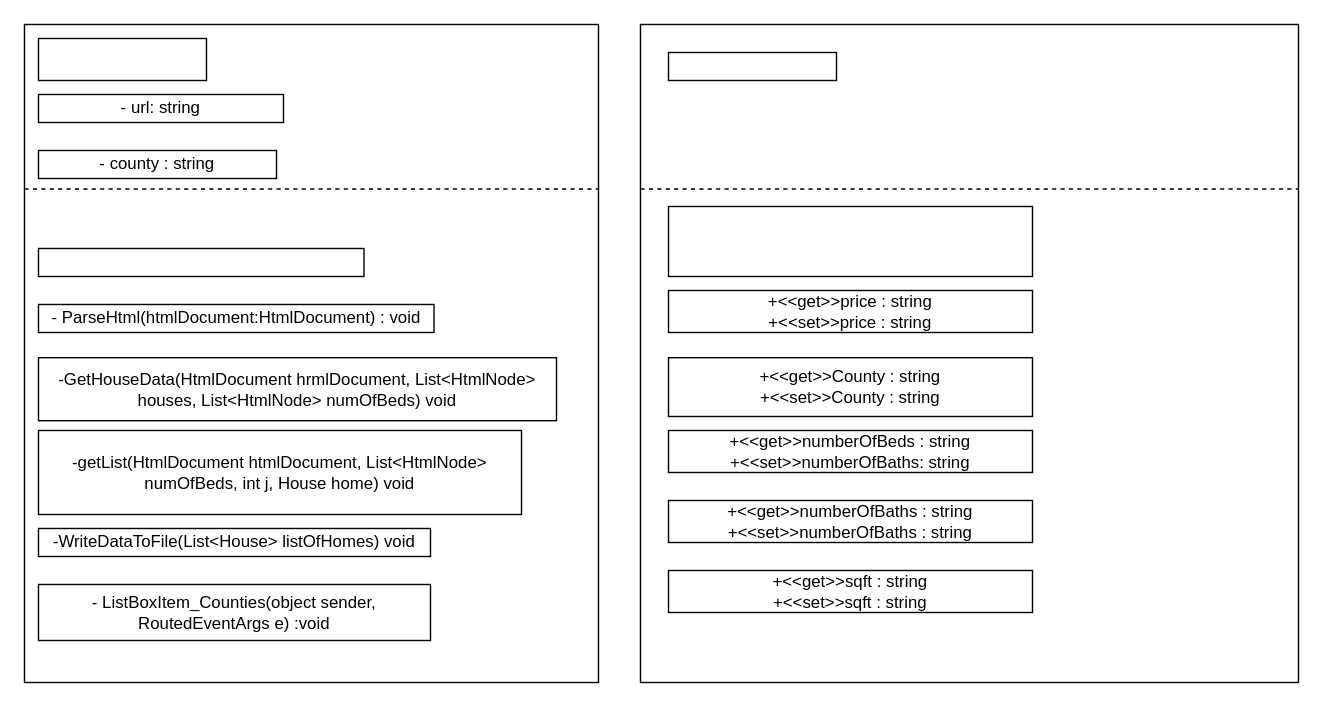
Some shapes in this 1324 by 707 pixel diagram are drawn without their labels. Each missing label, with the centre of its shape:
"+<<get>> address : string +<<set>> address : string" belongs at (x=849, y=240).
"- GetHtml() async void" belongs at (x=200, y=261).
"Class House" belongs at (x=751, y=65).
"Class mainWindow" belongs at (x=121, y=58).
